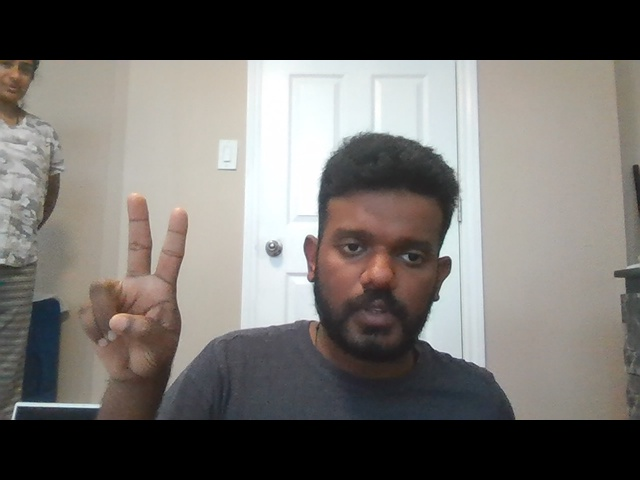peace: (78, 187, 193, 385)
